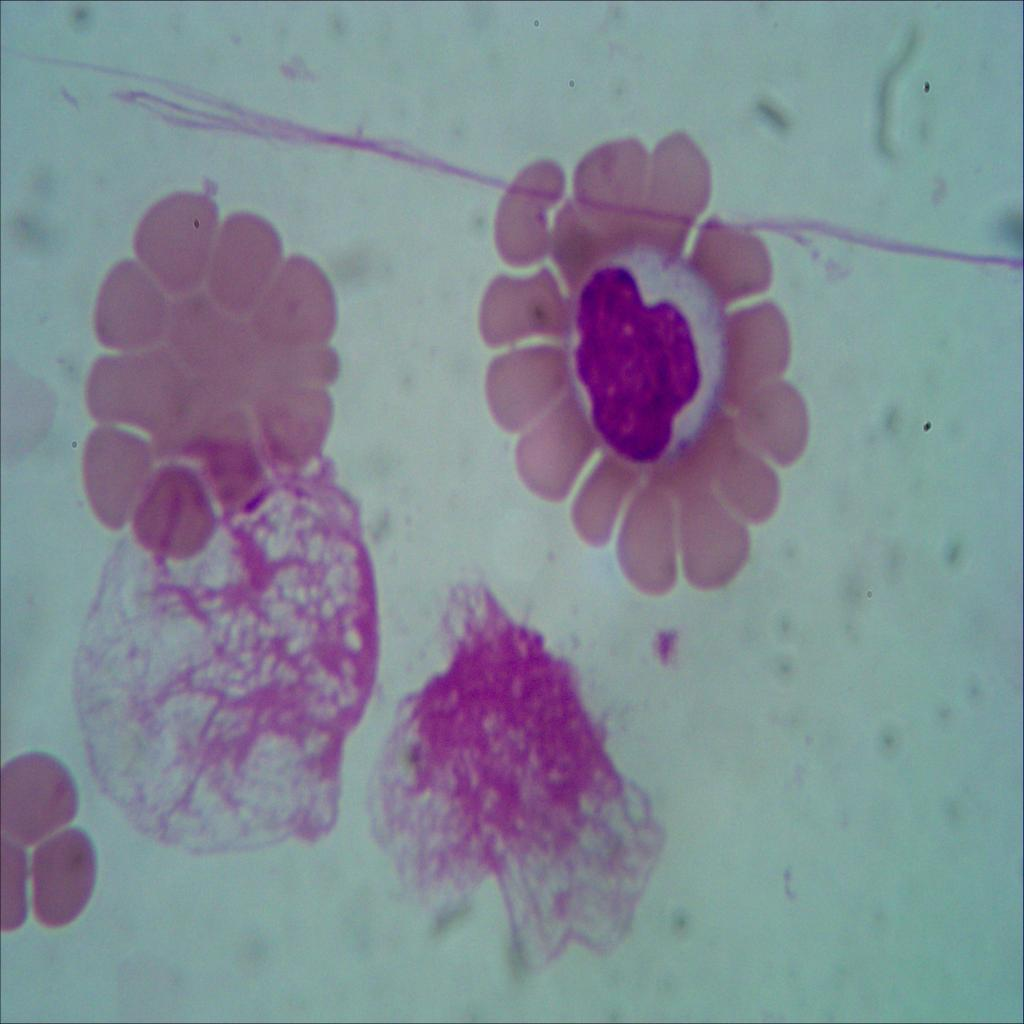Eritrosit: (260, 334, 341, 470), (664, 482, 754, 592), (134, 189, 215, 297), (643, 132, 712, 256), (482, 338, 578, 426), (699, 427, 786, 523), (252, 252, 335, 349), (565, 140, 643, 242), (76, 423, 155, 523), (522, 400, 602, 498), (86, 344, 172, 435), (0, 747, 86, 837), (562, 443, 634, 550), (134, 465, 216, 558), (618, 487, 684, 599), (91, 257, 172, 347), (496, 156, 558, 272), (477, 258, 562, 341), (208, 212, 274, 317), (732, 374, 811, 460), (201, 412, 266, 512), (697, 220, 774, 304), (32, 828, 95, 928), (537, 195, 597, 287), (728, 300, 790, 388)
Limfoblast: (564, 238, 728, 464)
Platelet: (649, 622, 688, 672)
